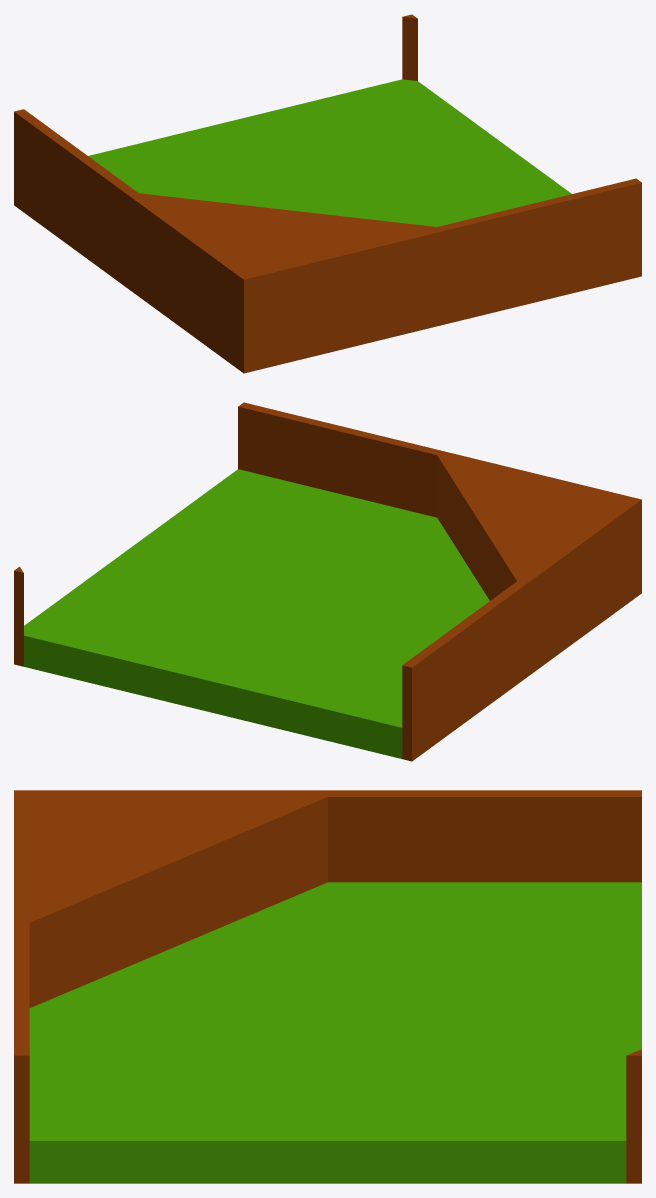
Rendered from turn_wide.fbx.
3 views of the same model, one above another, from view 1: azimuth 30°, elevation 25°; view 2: azimuth 150°, elevation 25°; view 3: azimuth 270°, elevation 25° (orthographic). The views are drawn at different scales.
Visible parts, largest first — view 1: Plane; view 2: Plane; view 3: Plane.
Boxes of the visible parts, left/top/right/bottom form: Plane: left=14, top=14, right=641, bottom=373; Plane: left=14, top=402, right=641, bottom=761; Plane: left=14, top=790, right=641, bottom=1183.
Size of the model in its own units: 400 by 90 by 400.
